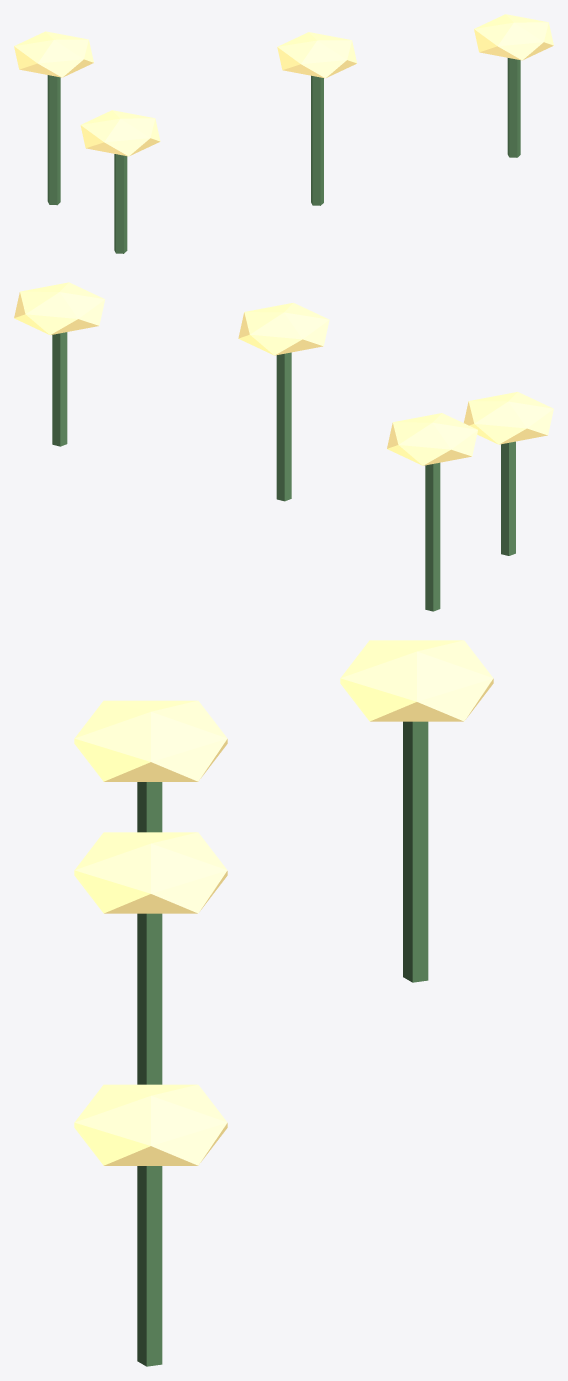
File: harthmere_temple_peacebloom.lod1.glb
3 views of the same model, one above another, from view 1: azimuth 30°, elevation 25°; view 2: azimuth 150°, elevation 25°; view 3: azimuth 270°, elevation 25° (orthographic). The views are drawn at different scales.
Size of the model in its own units: 1.93 by 0.6485 by 0.7565.
